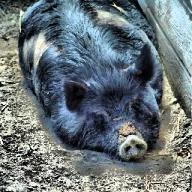boar: (17, 0, 165, 162)
